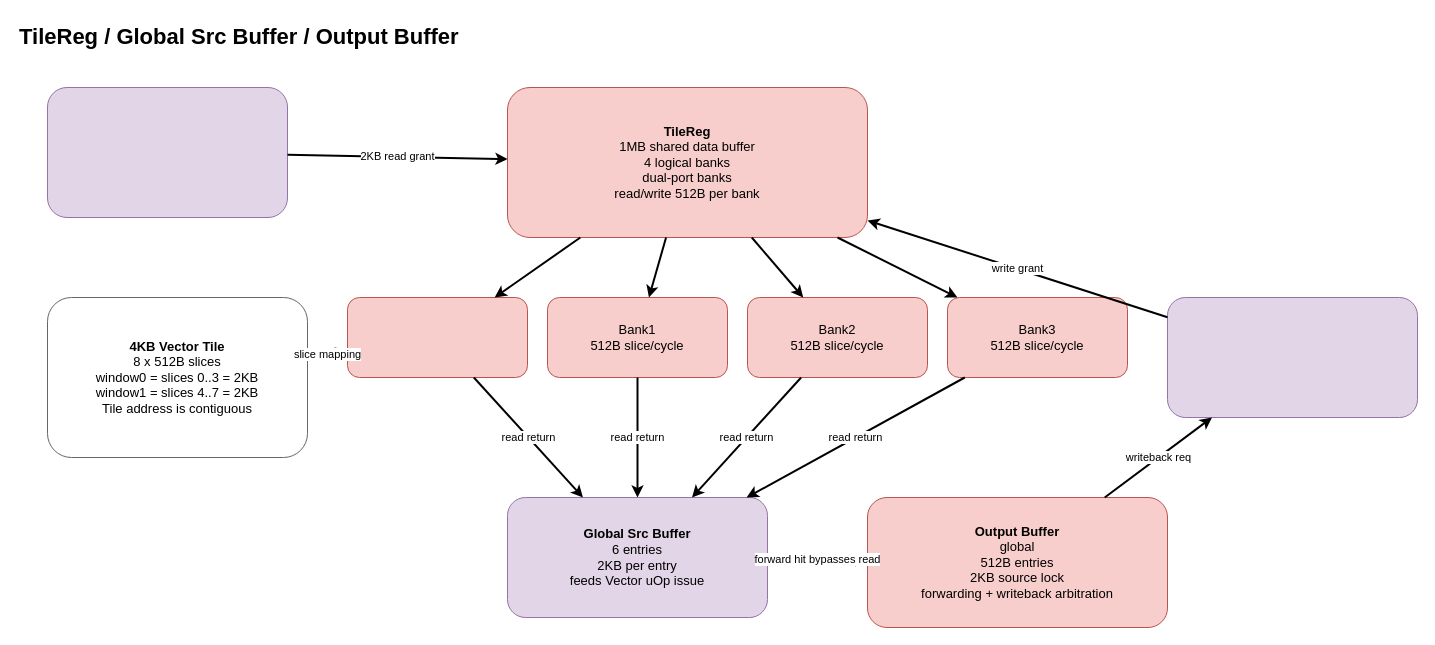
Some shapes in this 1435 by 645 pixel diagram are drawn without their labels. Each missing label, with the centre of its shape:
"Bank0 512B slice/cycle" goes at pixel 437 337.
"Read Arb RR Vector / Cube / TMA grant 2KB window" goes at pixel 167 152.
"Write Arb Output Buffer / Cube / TMA preserve tag + slice order" goes at pixel 1292 357.
